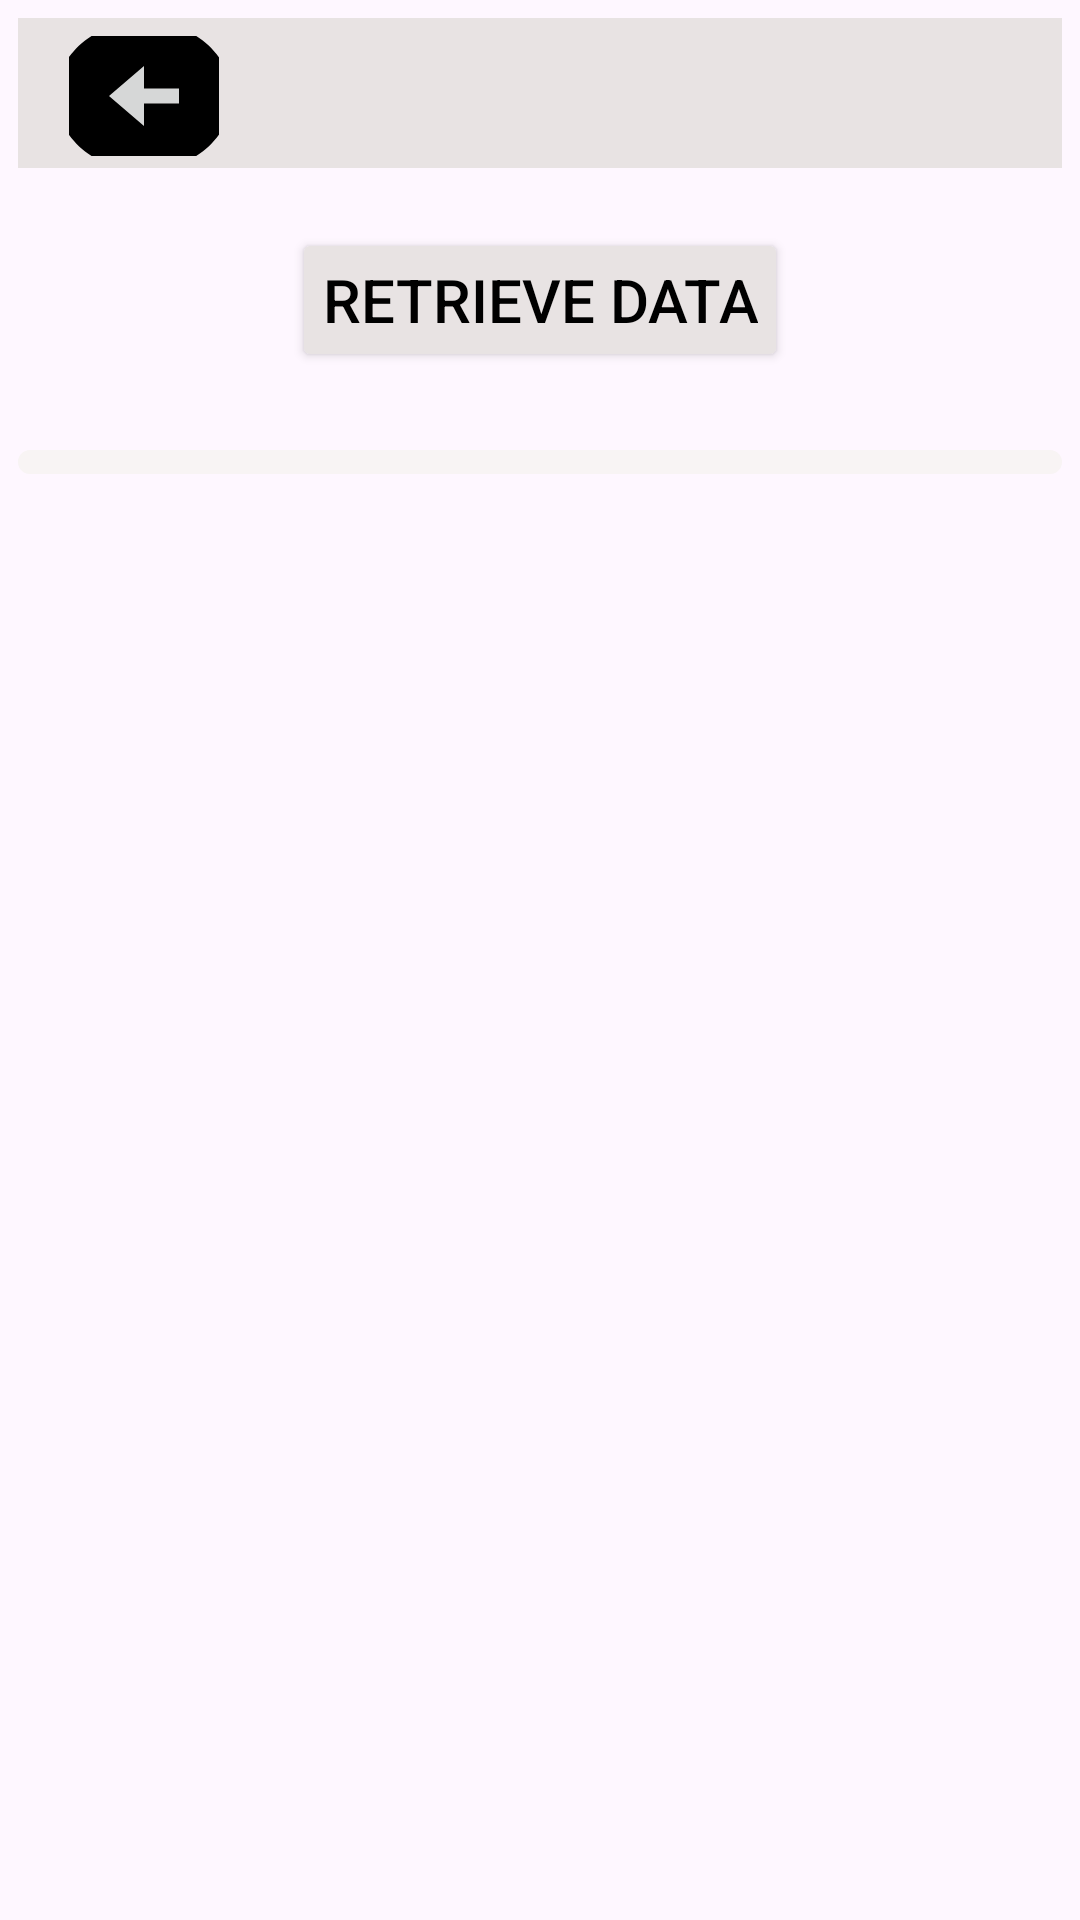

Icons on this 1080×1920 Android screen, each with the point to tap as [x,y]:
arrow circle left: [144,96]
